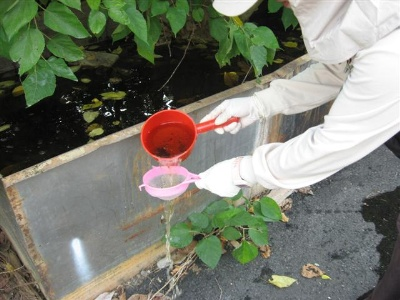bowl: (138, 109, 198, 165)
